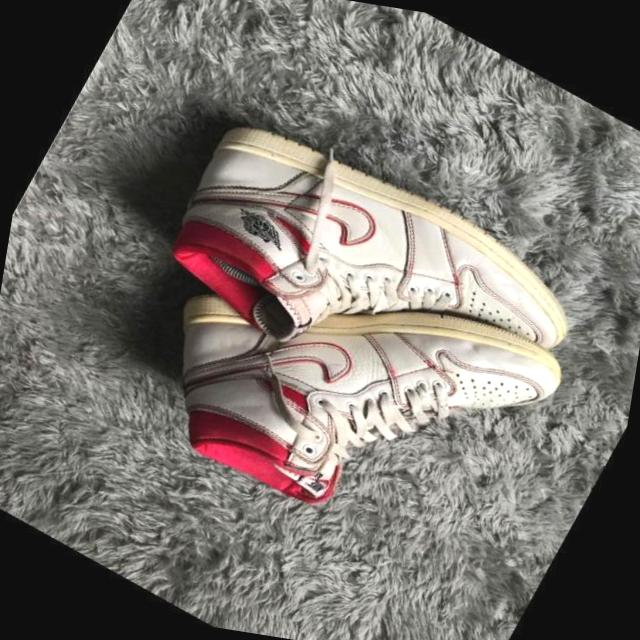nike_original_jordan: (91, 160, 595, 603), (123, 80, 619, 476)
